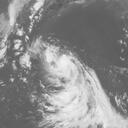cyclone: (38, 46, 82, 100)
